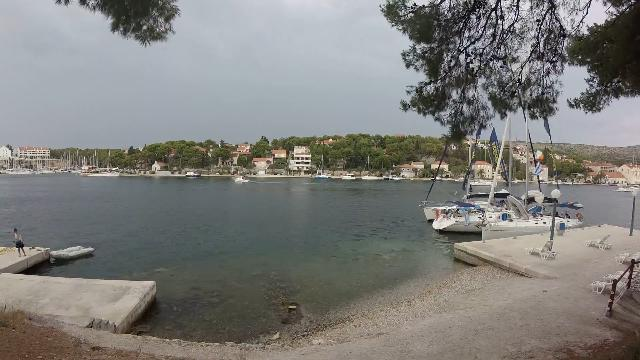speedboat: (230, 172, 253, 186)
